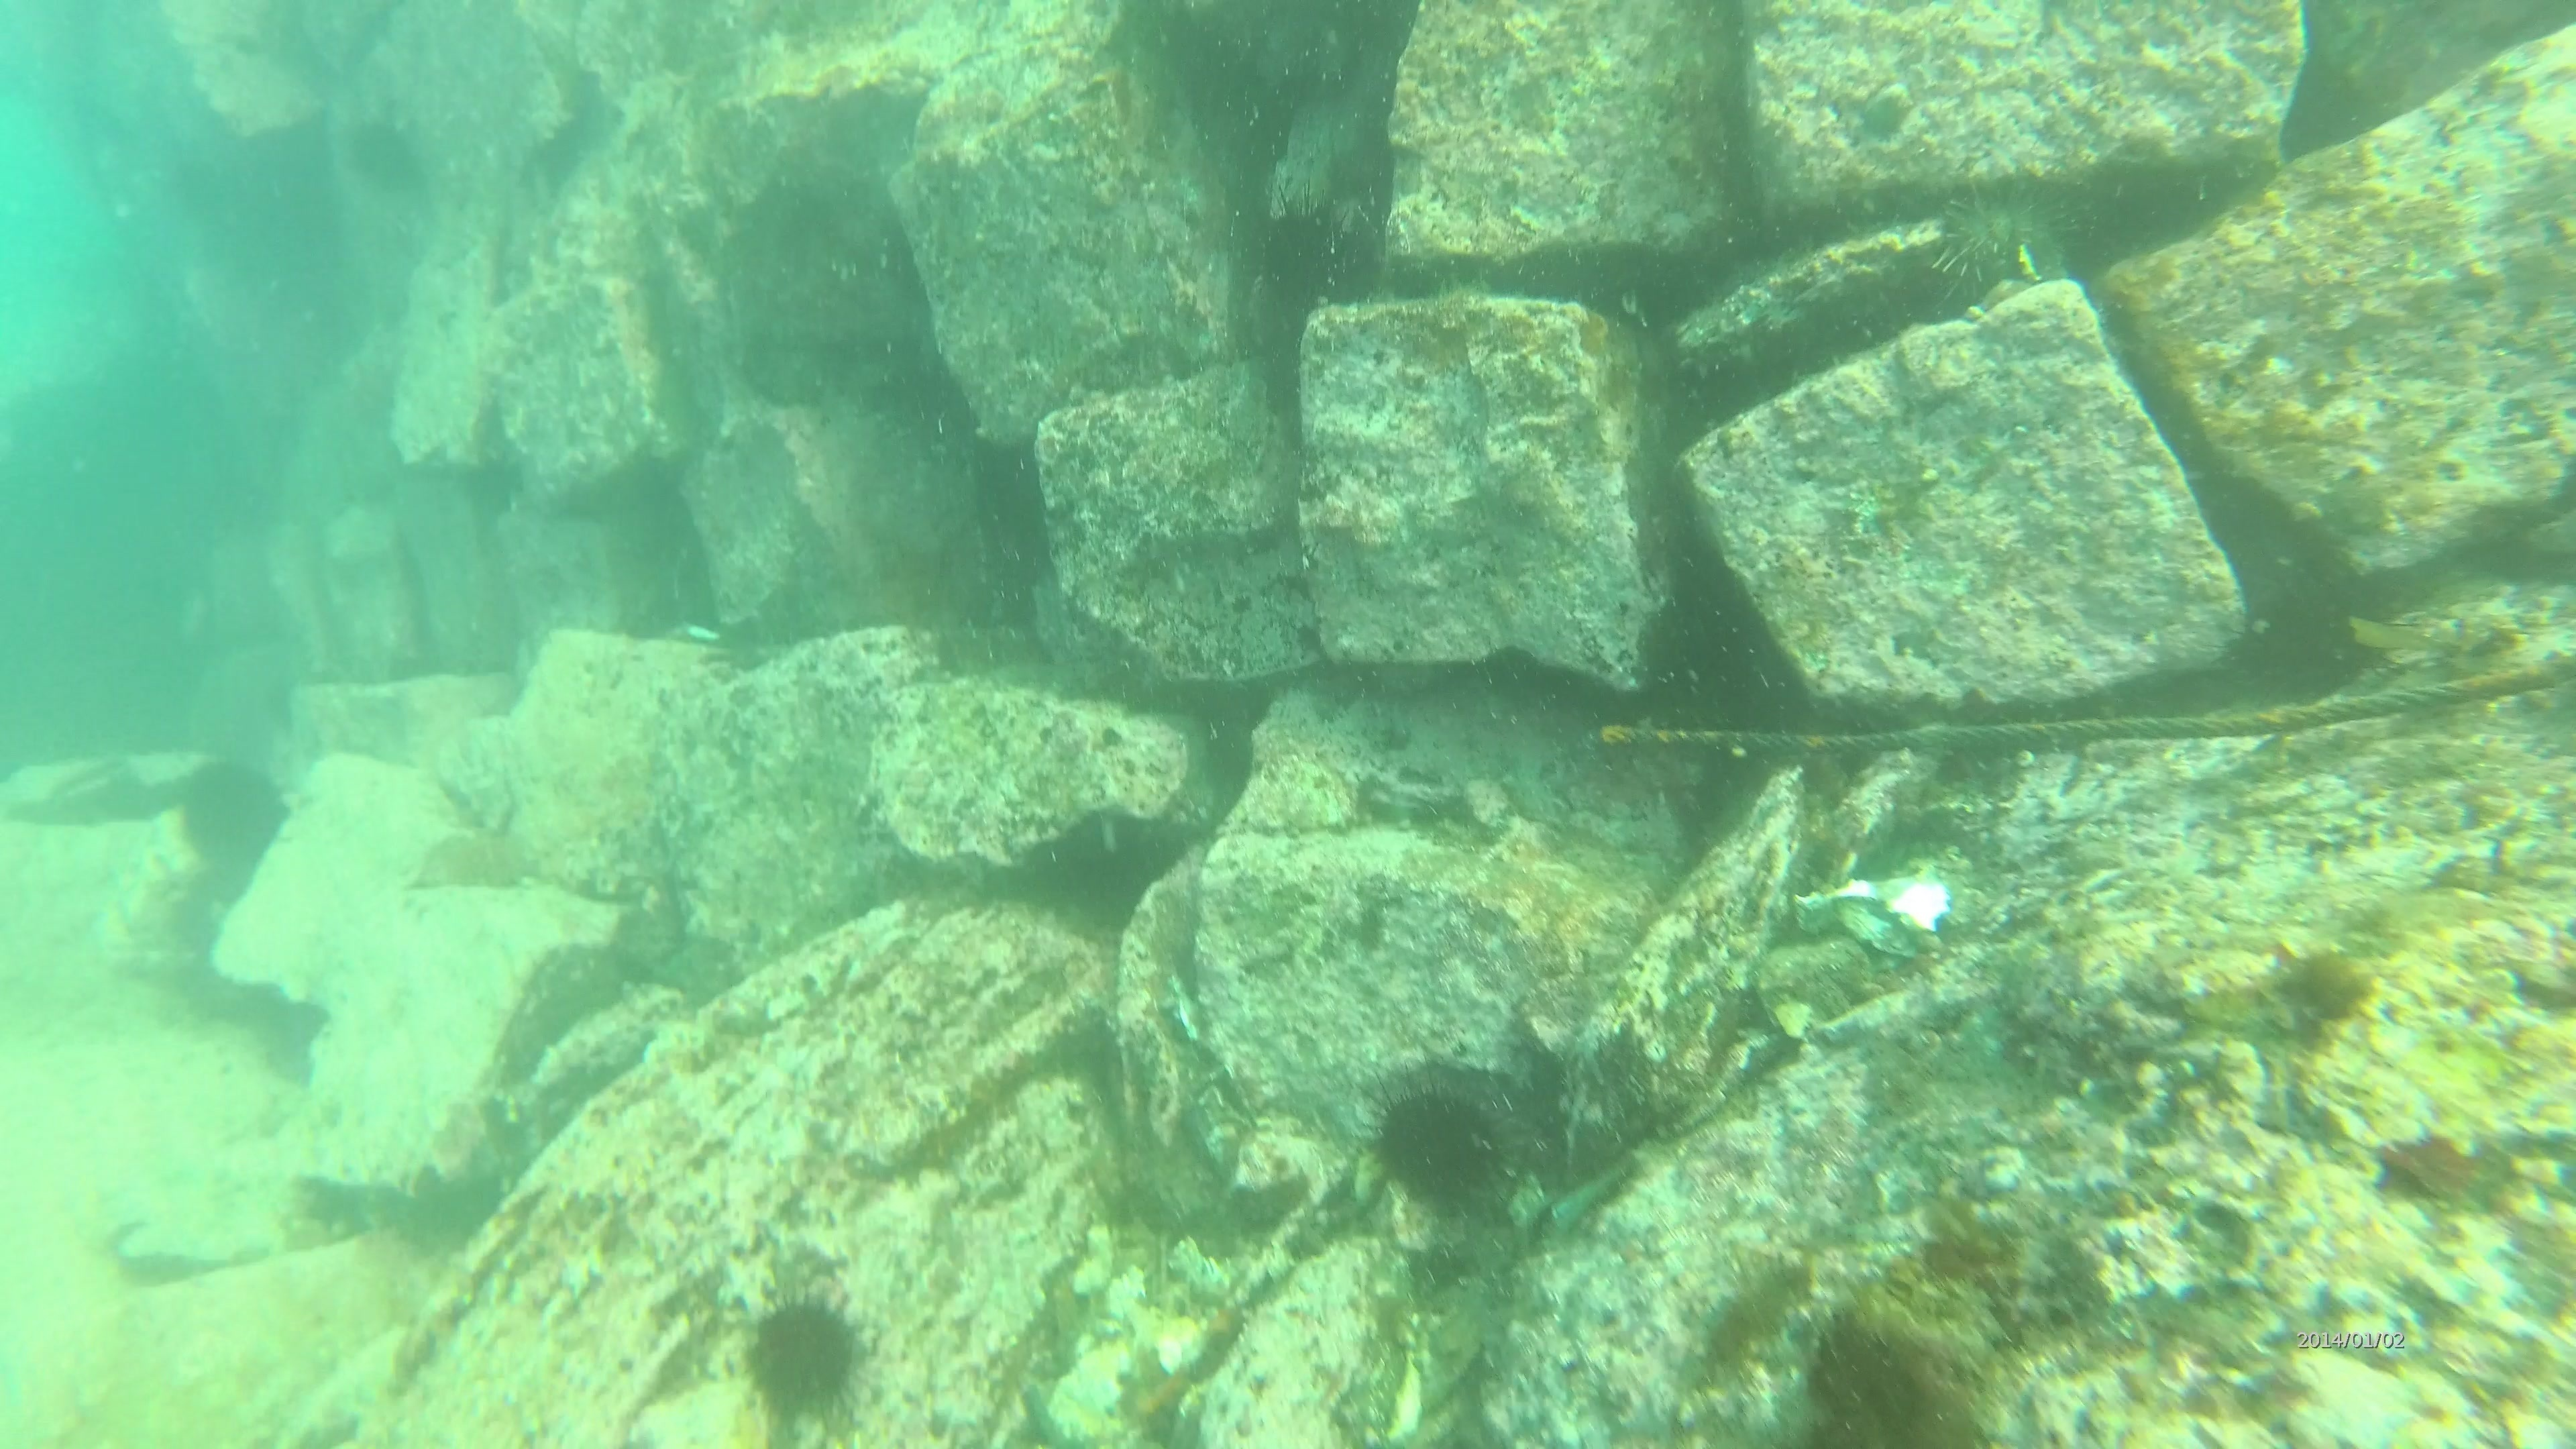echinus: (1361, 1074, 1514, 1217), (1794, 1311, 1955, 1445), (731, 1284, 879, 1430), (1240, 189, 1389, 322), (1916, 182, 2074, 306), (170, 752, 295, 874), (340, 106, 435, 203)
